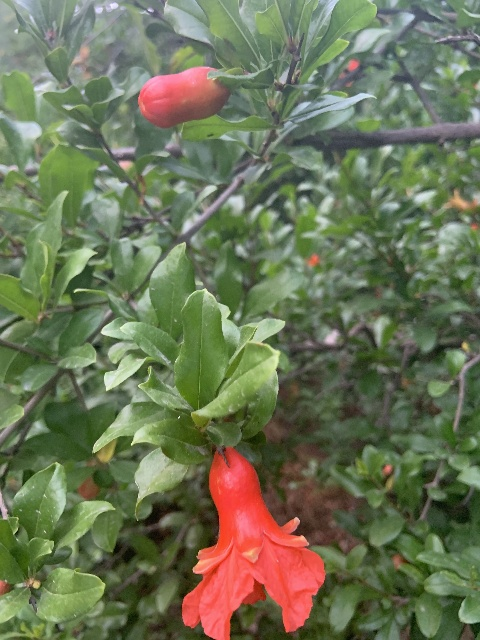bud: (138, 66, 230, 128)
flower: (183, 444, 325, 640)
